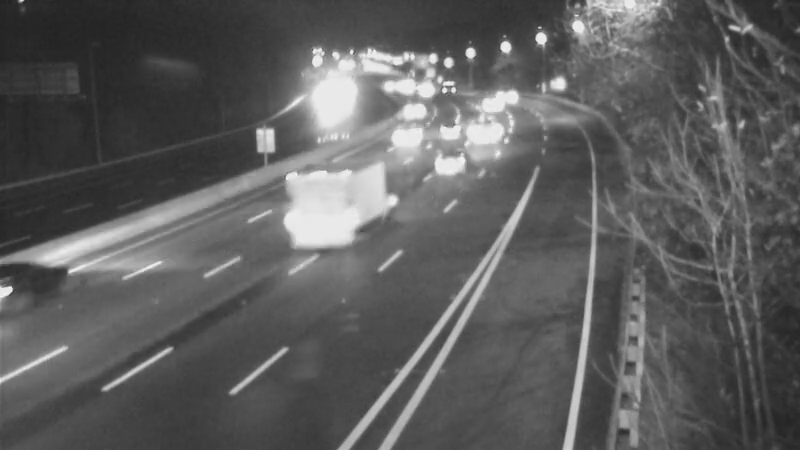vehicle: (413, 123, 493, 203), (265, 129, 345, 209), (272, 178, 352, 258), (1, 245, 67, 325), (466, 80, 516, 130), (390, 81, 440, 131), (422, 101, 472, 151), (467, 101, 517, 151), (386, 111, 436, 161)
